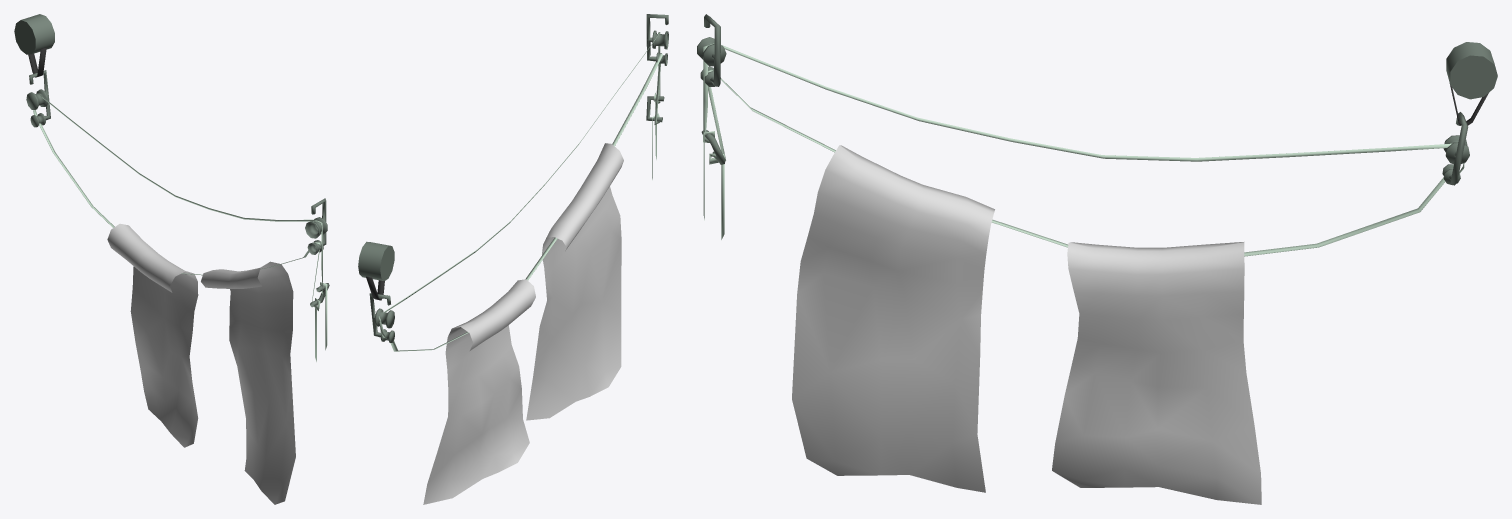
Rendered from LaundrySheets.fbx.
3 renders of one model, left to right at view 1: azimuth 30°, elevation 25°; view 2: azimuth 150°, elevation 25°; view 3: azimuth 270°, elevation 25°, orthographic. The views are drawn at different scales.
Visible parts, largest first — view 1: LaundrySheet.001, LaundrySheet, Clothing Line; view 2: LaundrySheet.001, LaundrySheet, Clothing Line; view 3: LaundrySheet.001, LaundrySheet, Clothing Line.
Boxes of the visible parts, left/top/right/bottom form: LaundrySheet.001: left=201, top=261, right=295, bottom=504; LaundrySheet: left=107, top=223, right=198, bottom=447; Clothing Line: left=14, top=14, right=329, bottom=361; LaundrySheet.001: left=526, top=143, right=623, bottom=420; LaundrySheet: left=423, top=279, right=535, bottom=504; Clothing Line: left=358, top=14, right=668, bottom=351; LaundrySheet.001: left=792, top=145, right=994, bottom=492; LaundrySheet: left=1052, top=242, right=1261, bottom=504; Clothing Line: left=697, top=14, right=1497, bottom=256.
Bounding box in the file's own units: 0.4378 × 5.19 × 3.36.
